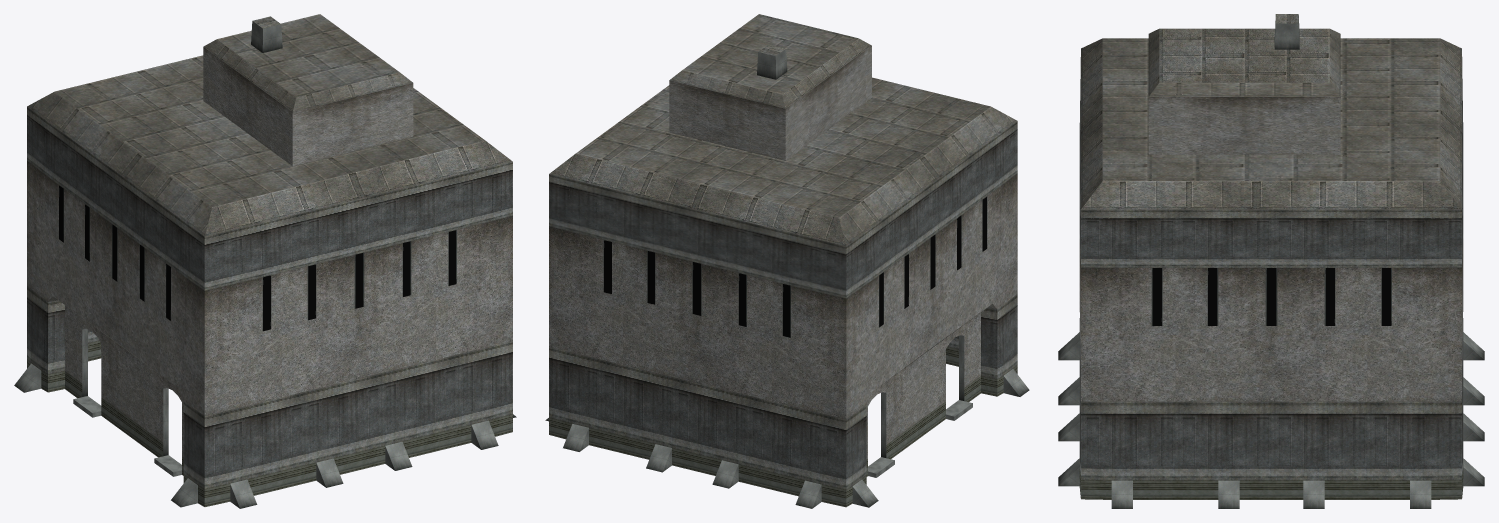
The model's file is thm_corl_imprv_slum_16x16_s01_r0_mesh_l1.fbx.
3 views of the same model, side by side, from view 1: azimuth 30°, elevation 25°; view 2: azimuth 150°, elevation 25°; view 3: azimuth 270°, elevation 25° (orthographic). The views are drawn at different scales.
Visible parts, largest first — view 1: mesh_node; view 2: mesh_node; view 3: mesh_node.
Boxes of the visible parts, left/top/right/bottom form: mesh_node: left=14, top=14, right=516, bottom=508; mesh_node: left=545, top=14, right=1029, bottom=508; mesh_node: left=1058, top=14, right=1484, bottom=508.
Bounding box in the file's own units: 16 × 16.66 × 16.
